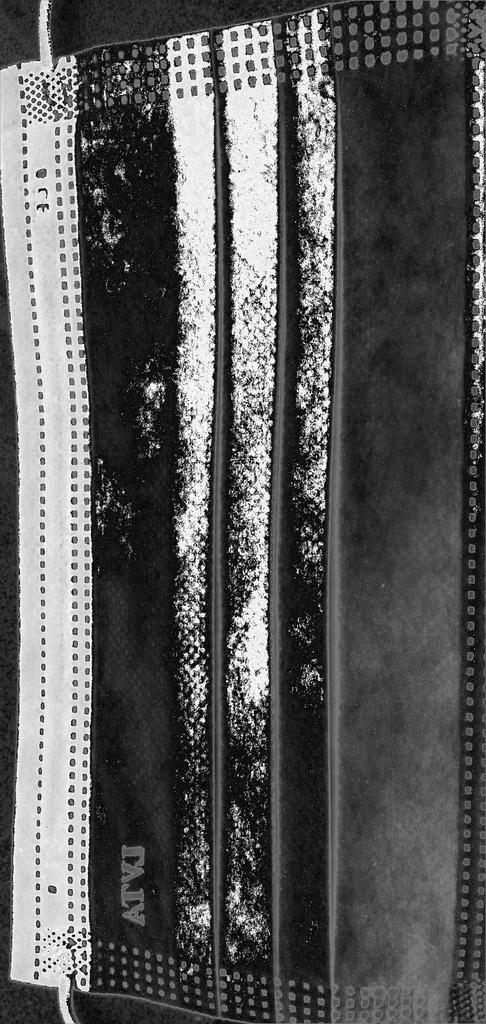High GSM: (89, 72, 458, 978)
